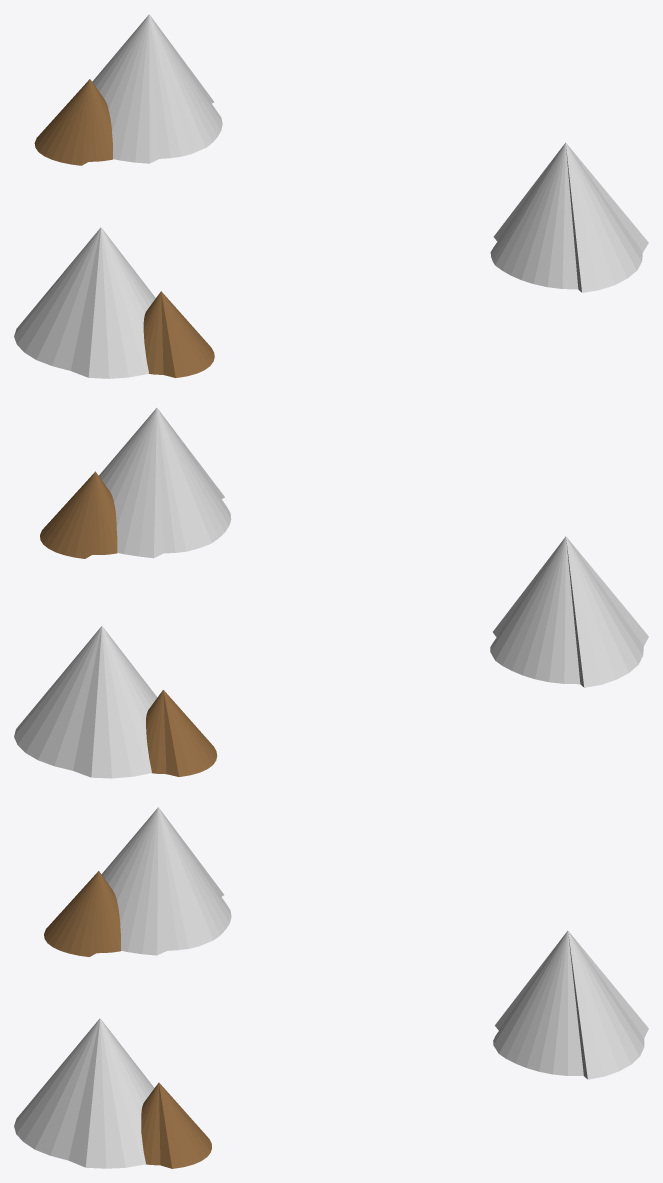
File: Earth_power.fbx
The picture shows the model from 3 angles, top to bottom: view 1: azimuth 30°, elevation 25°; view 2: azimuth 150°, elevation 25°; view 3: azimuth 270°, elevation 25°; orthographic projection.
Parts seen in each view (by area): view 1: 锥体.001; view 2: 锥体.001; view 3: 锥体.001.
Boxes of the visible parts, bbox=[...] form: 锥体.001: bbox=[14, 14, 648, 378]; 锥体.001: bbox=[14, 408, 648, 778]; 锥体.001: bbox=[14, 807, 648, 1168].
Bounding box in the file's own units: 1140 × 213 × 1082.
